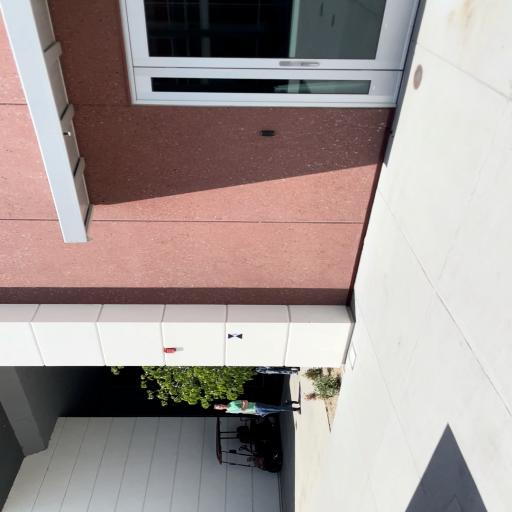target6: (228, 333, 242, 339)
